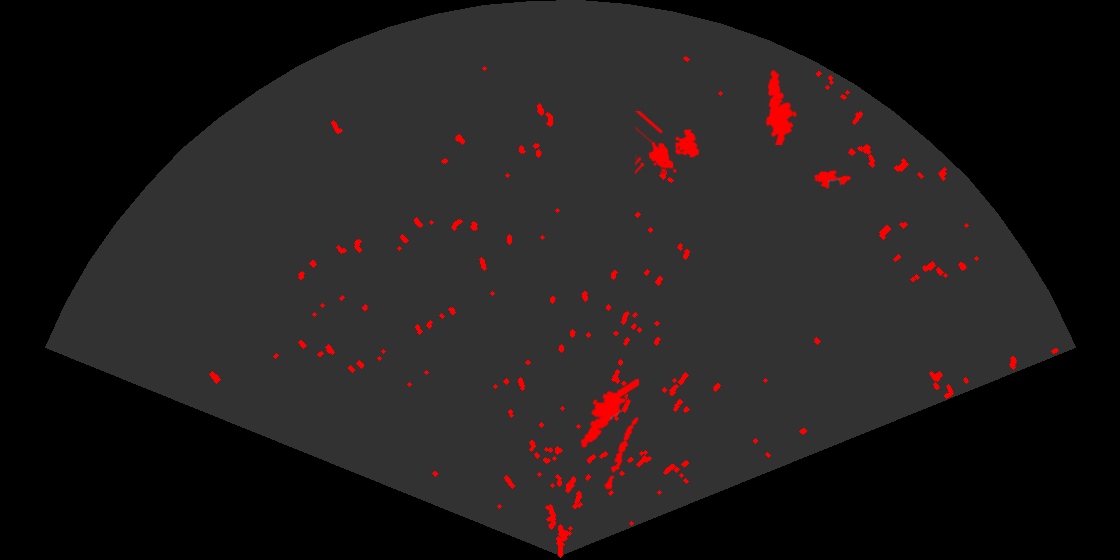AUV: (812, 169, 853, 191)
cage: (635, 111, 701, 176)
chain: (603, 415, 640, 493)
frogman: (579, 379, 639, 450), (764, 68, 799, 145)
